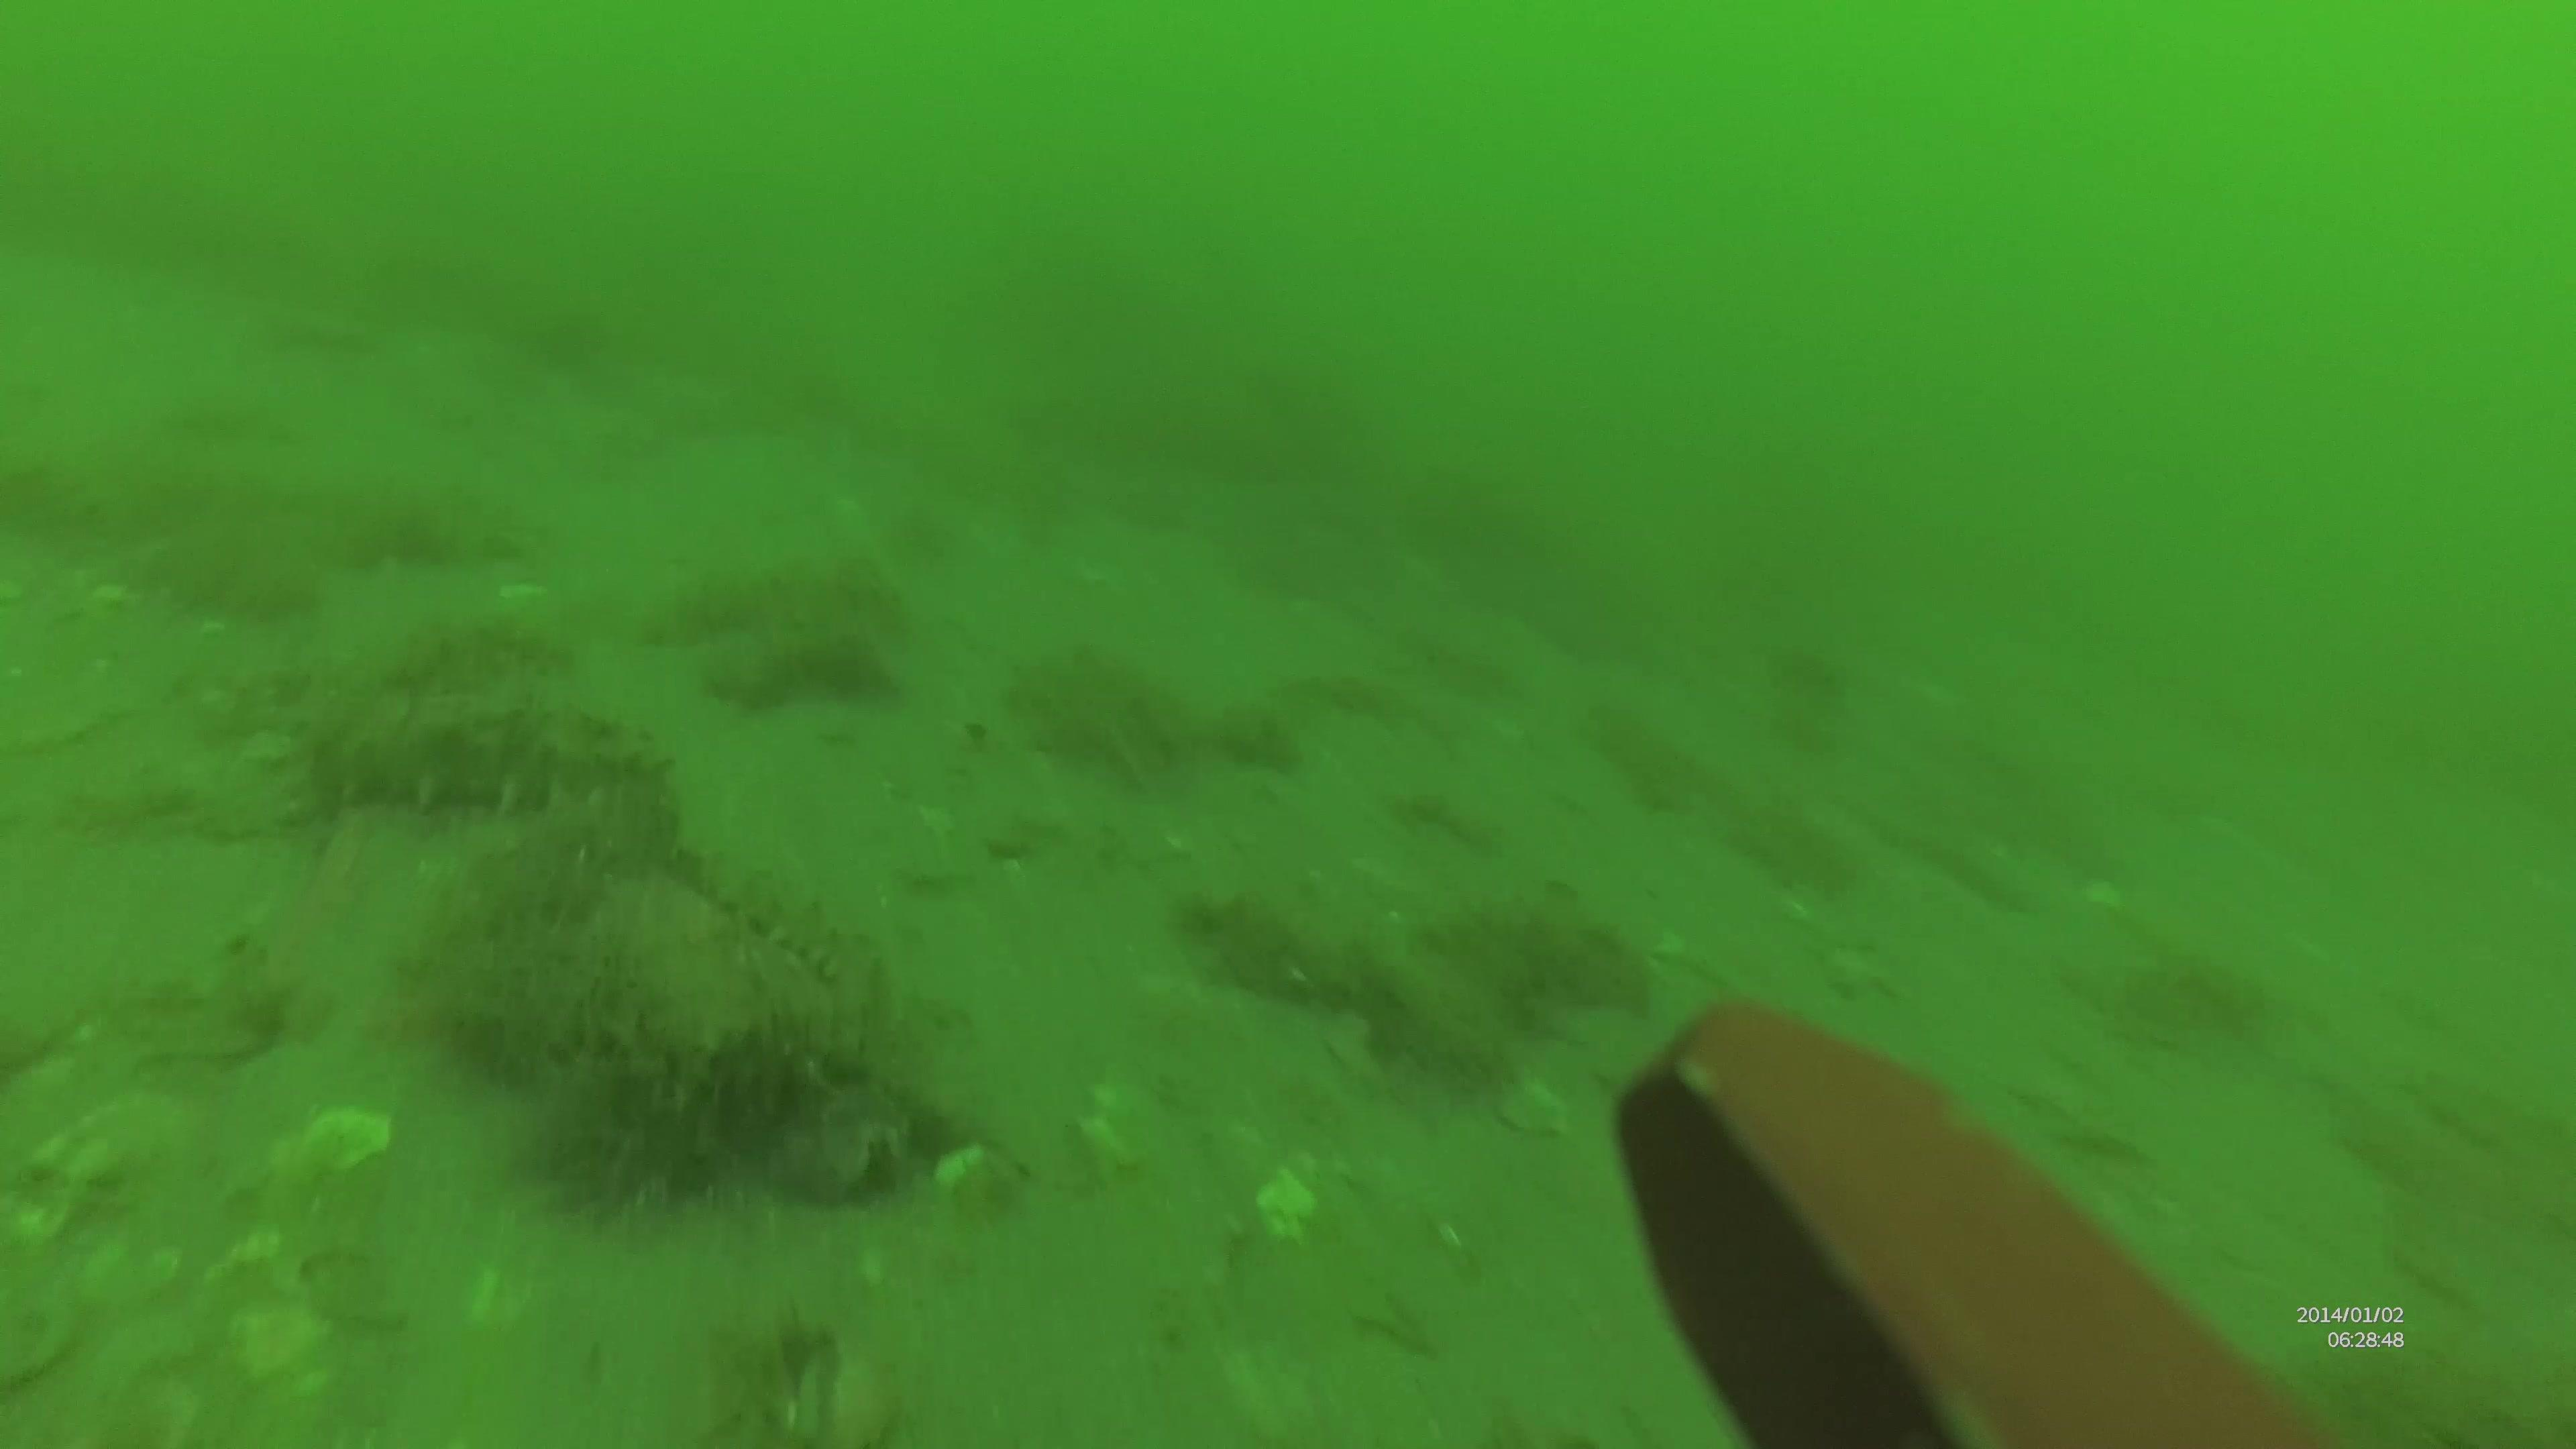holothurian: (318, 686, 655, 809), (686, 839, 908, 1003)
